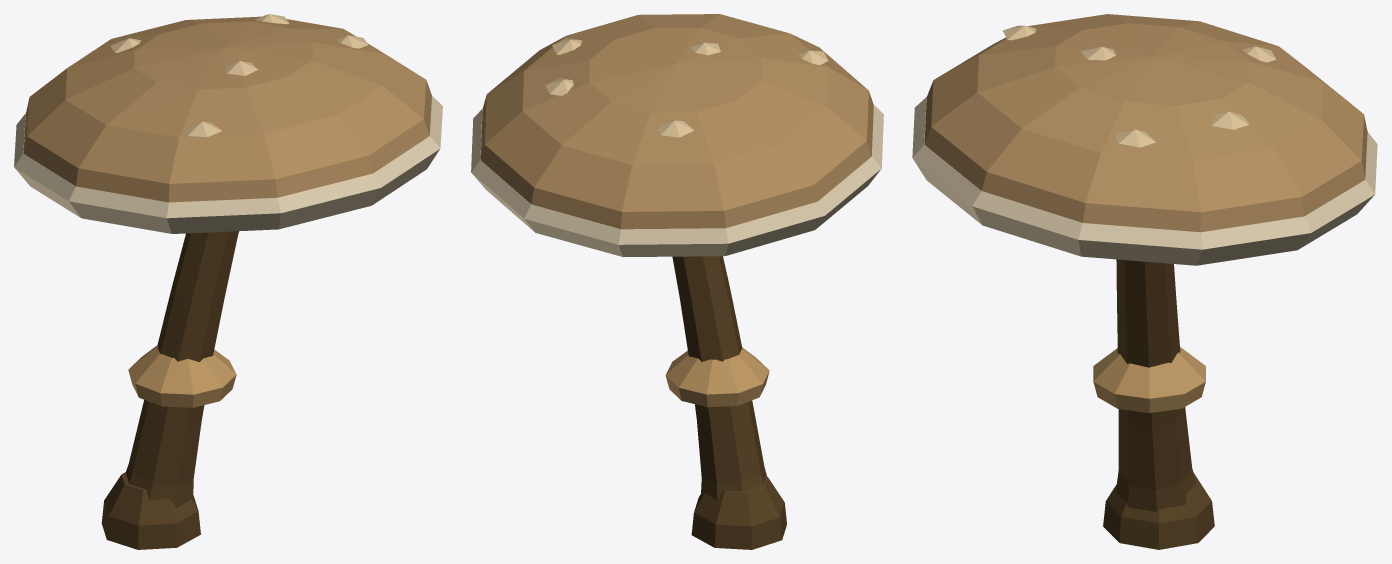
Rendered from plant_timbershroom_b.obj.
The picture shows the model from 3 angles, left to right: view 1: azimuth 30°, elevation 25°; view 2: azimuth 150°, elevation 25°; view 3: azimuth 270°, elevation 25°; orthographic projection. The views are drawn at different scales.
Parts seen in each view (by area): view 1: plant_timbershroom_b_4, plant_timbershroom_b_3, plant_timbershroom_b_0, plant_timbershroom_b_1, plant_timbershroom_b_2; view 2: plant_timbershroom_b_4, plant_timbershroom_b_3, plant_timbershroom_b_0, plant_timbershroom_b_1, plant_timbershroom_b_2; view 3: plant_timbershroom_b_4, plant_timbershroom_b_3, plant_timbershroom_b_0, plant_timbershroom_b_2, plant_timbershroom_b_1.
Boxes of the visible parts, x1,y1,x2,y2 form: plant_timbershroom_b_4: (23,16,431,202); plant_timbershroom_b_3: (14,96,442,233); plant_timbershroom_b_0: (125,231,238,508); plant_timbershroom_b_1: (101,472,200,549); plant_timbershroom_b_2: (128,345,236,407); plant_timbershroom_b_4: (480,14,873,229); plant_timbershroom_b_3: (471,105,883,257); plant_timbershroom_b_0: (672,256,766,500); plant_timbershroom_b_1: (691,476,786,549); plant_timbershroom_b_2: (665,347,769,407); plant_timbershroom_b_4: (924,14,1367,232); plant_timbershroom_b_3: (912,97,1377,265); plant_timbershroom_b_0: (1116,259,1196,511); plant_timbershroom_b_2: (1093,347,1205,413); plant_timbershroom_b_1: (1103,472,1214,549).
Bounding box in the file's own units: 0.8351 × 1.01 × 0.8323.
